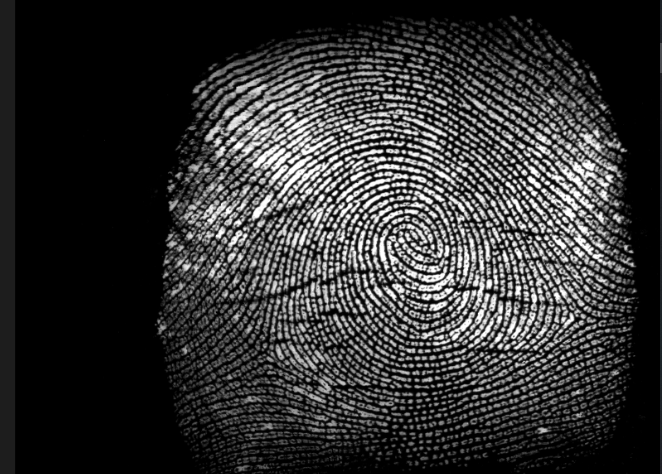nucelo: (390, 219, 429, 257)
verticilo: (555, 303, 591, 336), (256, 337, 287, 365)
